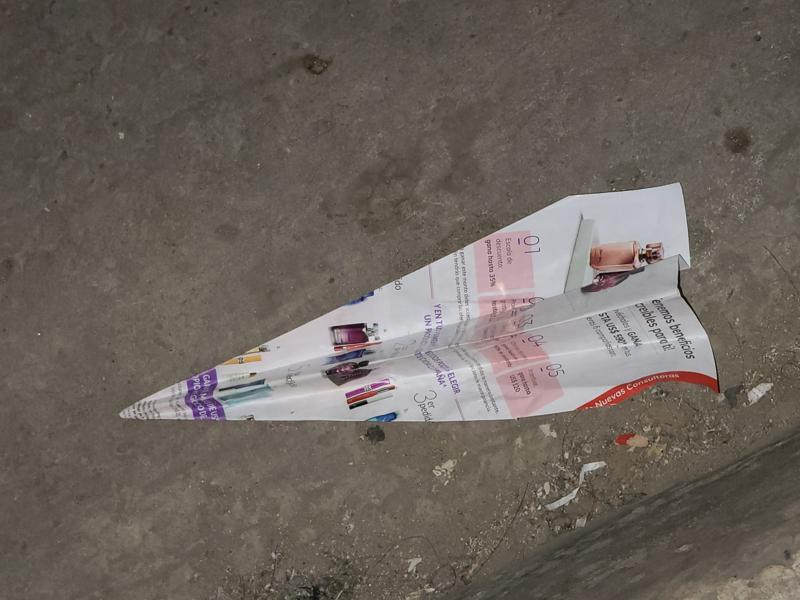papel: (118, 183, 722, 427)
